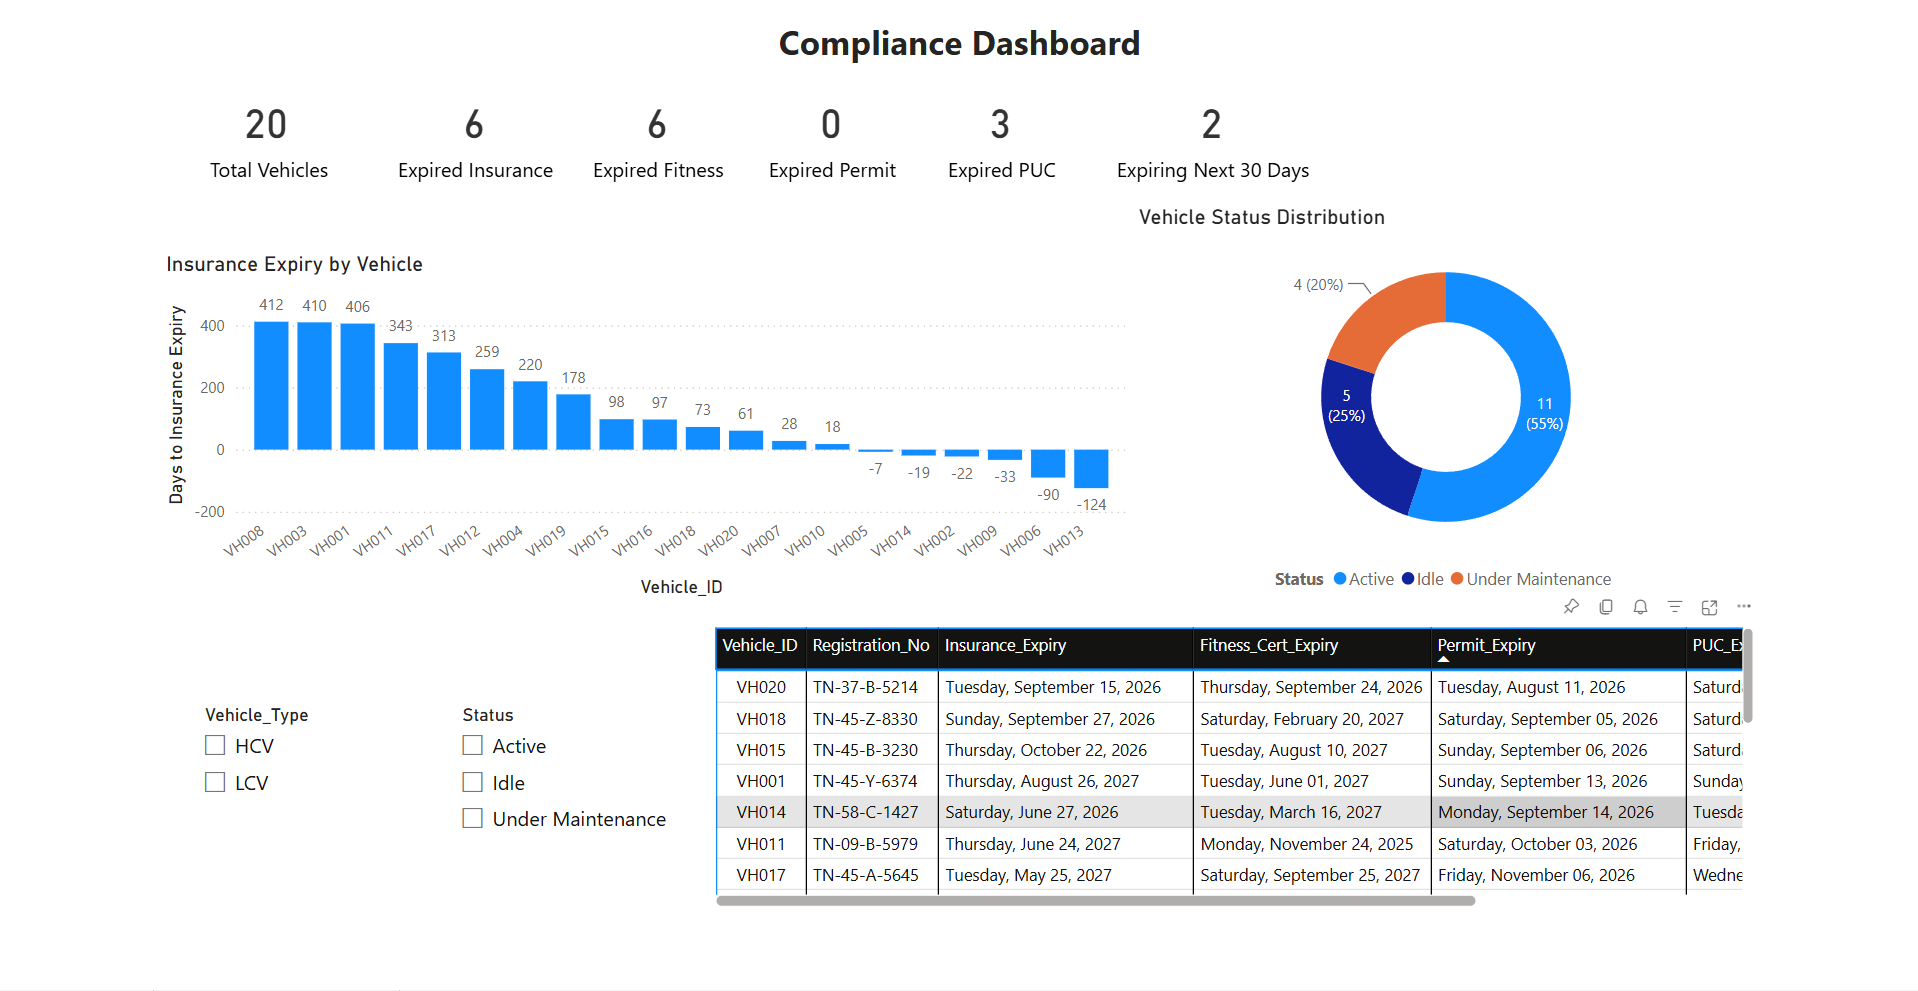

Layout of this report page (visuals, bound fields, positions):
{"tool":"powerbi","page":{"name":"Page 4","canvas":[1280,720],"ordinal":3},"visuals":[{"type":"textbox","box":[451.2,0,377.9,45.2],"z":0},{"type":"advanceCardE03760C5AB684758B56AA29F9E6C257B","fields":{"mainMeasure":["Driver_Master.Total Vehicles"]},"box":[0,45.9,175.3,107.1],"z":1000},{"type":"advanceCardE03760C5AB684758B56AA29F9E6C257B","fields":{"mainMeasure":["Driver_Master.Expired Insurance"]},"box":[175.3,45.9,154.4,107.1],"z":2000},{"type":"advanceCardE03760C5AB684758B56AA29F9E6C257B","fields":{"mainMeasure":["Driver_Master.Expired Fitness"]},"box":[329.7,45.9,137.7,107.1],"z":3000},{"type":"advanceCardE03760C5AB684758B56AA29F9E6C257B","fields":{"mainMeasure":["Driver_Master.Expired Permit"]},"box":[467.5,45.9,141.9,107.1],"z":4000},{"type":"advanceCardE03760C5AB684758B56AA29F9E6C257B","fields":{"mainMeasure":["Driver_Master.Expired PUC"]},"box":[609.4,45.9,129.4,107.1],"z":5000},{"type":"advanceCardE03760C5AB684758B56AA29F9E6C257B","fields":{"mainMeasure":["Driver_Master.Expiring in Next 30 Days"]},"box":[738.8,45.9,207.3,107.1],"z":6000},{"type":"clusteredColumnChart","title":"Insurance Expiry by Vehicle","fields":{"Category":["Vehicle_Master.Vehicle_ID"],"Y":["Driver_Master.Days to Insurance Expiry"]},"box":[0,189.5,777.7,282.5],"z":7000},{"type":"donutChart","title":"Vehicle Status Distribution","fields":{"Category":["Vehicle_Master.Status"],"Y":["CountNonNull(Vehicle_Master.Vehicle_ID)"]},"box":[777.7,153,502.3,318.6],"z":8000},{"type":"tableEx","fields":{"Values":["Vehicle_Master.Vehicle_ID","Vehicle_Master.Registration_No","Vehicle_Master.Insurance_Expiry","Vehicle_Master.Fitness_Cert_Expiry","Vehicle_Master.Permit_Expiry","Vehicle_Master.PUC_Expiry","Vehicle_Master.Status"]},"box":[437.8,486.7,842.5,233.6],"z":9000},{"type":"slicer","fields":{"Values":["Vehicle_Master.Vehicle_Type"]},"box":[23.2,547.8,190.8,157.7],"z":10000},{"type":"slicer","fields":{"Values":["Vehicle_Master.Status"]},"box":[228.7,547.8,201.8,157.7],"z":11000}]}

Visuals, with their boxes on the page's 1280x720 design canvas (x1, y1, x2, y2). These are canvas units, not pixel positions in the 1918x991 screenshot, which may show the page scaled, cropped or inside an application window:
textbox: 451/0/829/45
advanceCardE03760C5AB684758B56AA29F9E6C257B - Driver_Master.Total Vehicles: 0/46/175/153
advanceCardE03760C5AB684758B56AA29F9E6C257B - Driver_Master.Expired Insurance: 175/46/330/153
advanceCardE03760C5AB684758B56AA29F9E6C257B - Driver_Master.Expired Fitness: 330/46/467/153
advanceCardE03760C5AB684758B56AA29F9E6C257B - Driver_Master.Expired Permit: 468/46/609/153
advanceCardE03760C5AB684758B56AA29F9E6C257B - Driver_Master.Expired PUC: 609/46/739/153
advanceCardE03760C5AB684758B56AA29F9E6C257B - Driver_Master.Expiring in Next 30 Days: 739/46/946/153
"Insurance Expiry by Vehicle" clusteredColumnChart: 0/190/778/472
"Vehicle Status Distribution" donutChart: 778/153/1280/472
tableEx - Vehicle_Master.Vehicle_ID x Vehicle_Master.Registration_No: 438/487/1280/720
slicer - Vehicle_Master.Vehicle_Type: 23/548/214/706
slicer - Vehicle_Master.Status: 229/548/430/706
